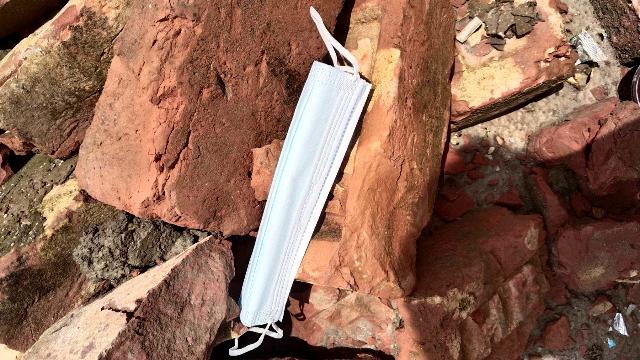mask: (233, 0, 389, 360)
